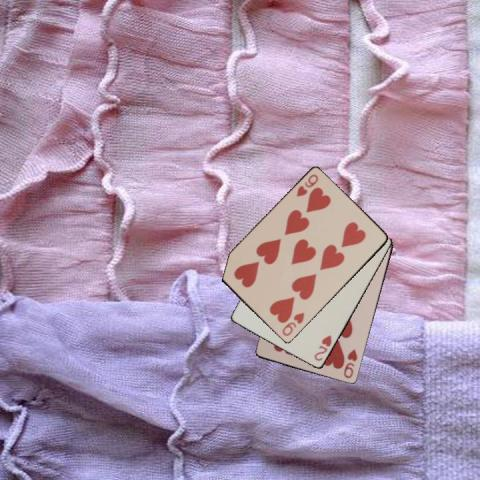2h: (312, 332, 334, 362)
9h: (279, 309, 306, 338), (293, 171, 320, 199), (340, 346, 359, 380)
